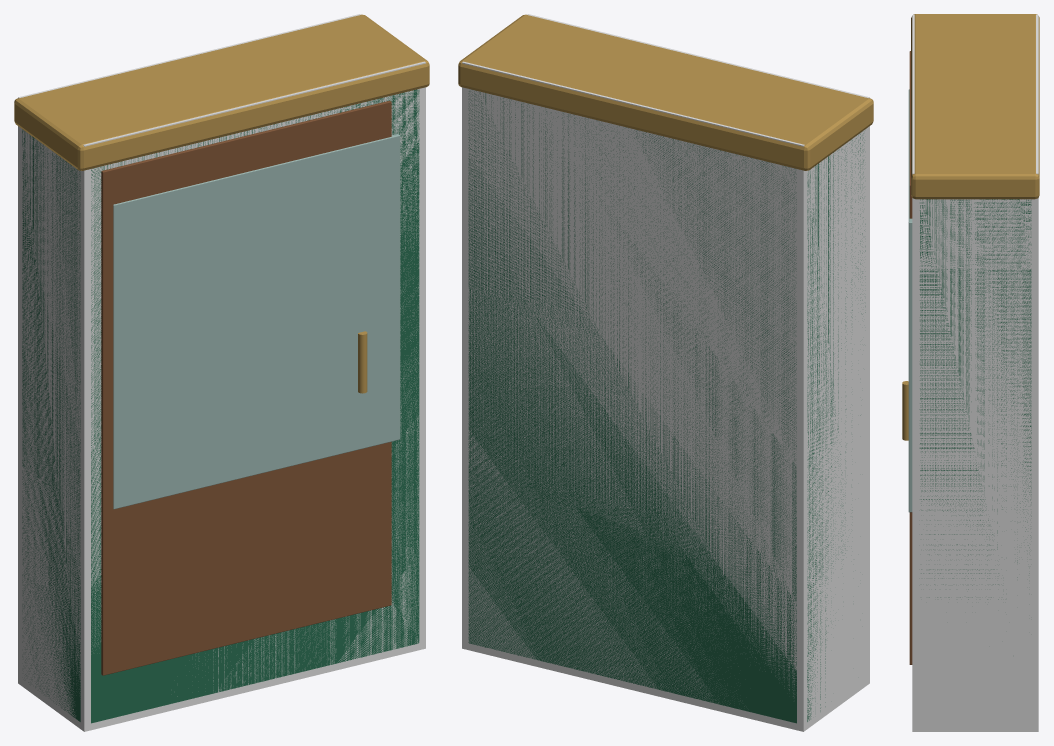
File: trophy-case_luxury.glb
3 renders of one model, left to right at view 1: azimuth 30°, elevation 25°; view 2: azimuth 150°, elevation 25°; view 3: azimuth 270°, elevation 25°, orthographic. The views are drawn at different scales.
Visible parts, largest first — view 1: MESH_DisplayGlass, MESH_Door_01, COL_trophy-case, MESH_CabinetCarcass, MESH_Crown; view 2: COL_trophy-case, MESH_CabinetCarcass, MESH_Crown; view 3: COL_trophy-case, MESH_Crown, MESH_CabinetCarcass, MESH_DisplayGlass, MESH_Door_01, MESH_Handle.
Part boxes in pixels (x1,y1,x2,y2): MESH_DisplayGlass: [113, 134, 400, 509]; MESH_Door_01: [101, 100, 391, 675]; COL_trophy-case: [18, 14, 425, 731]; MESH_CabinetCarcass: [22, 89, 419, 723]; MESH_Crown: [14, 14, 429, 170]; COL_trophy-case: [462, 14, 869, 731]; MESH_CabinetCarcass: [468, 91, 865, 723]; MESH_Crown: [458, 14, 873, 170]; COL_trophy-case: [912, 15, 1038, 731]; MESH_Crown: [911, 14, 1039, 199]; MESH_CabinetCarcass: [919, 199, 1031, 599]; MESH_DisplayGlass: [908, 89, 912, 512]; MESH_Door_01: [909, 51, 912, 664]; MESH_Handle: [902, 381, 908, 440].
Bounding box in the file's own units: 1.29 × 2.05 × 0.4581.
